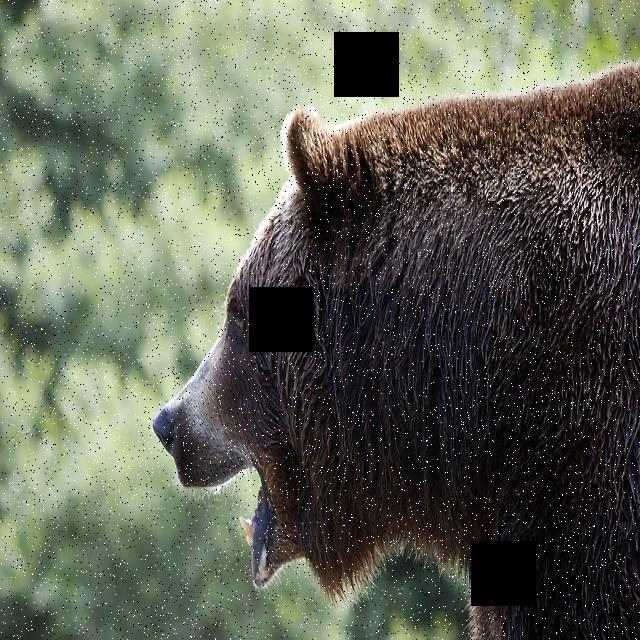Bear: (150, 98, 640, 640)
